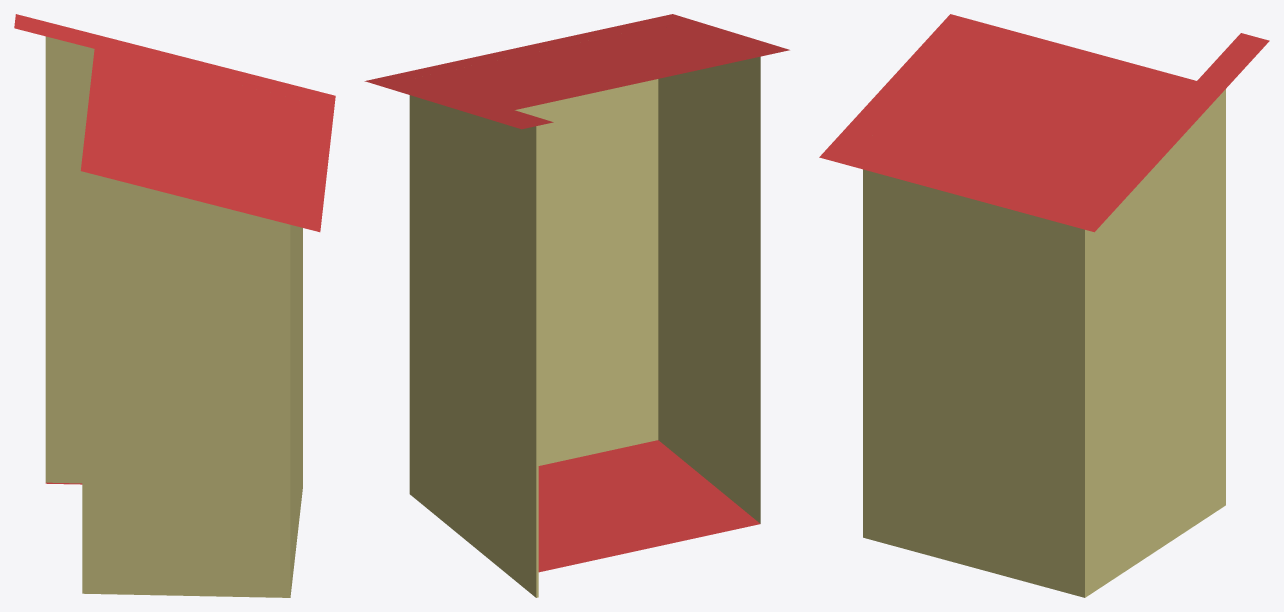
3 views of the same model, side by side, from view 1: azimuth 30°, elevation 25°; view 2: azimuth 150°, elevation 25°; view 3: azimuth 270°, elevation 25° (orthographic). The views are drawn at different scales.
Bounding box in the file's own units: 6.01 × 7.11 × 8.01.
